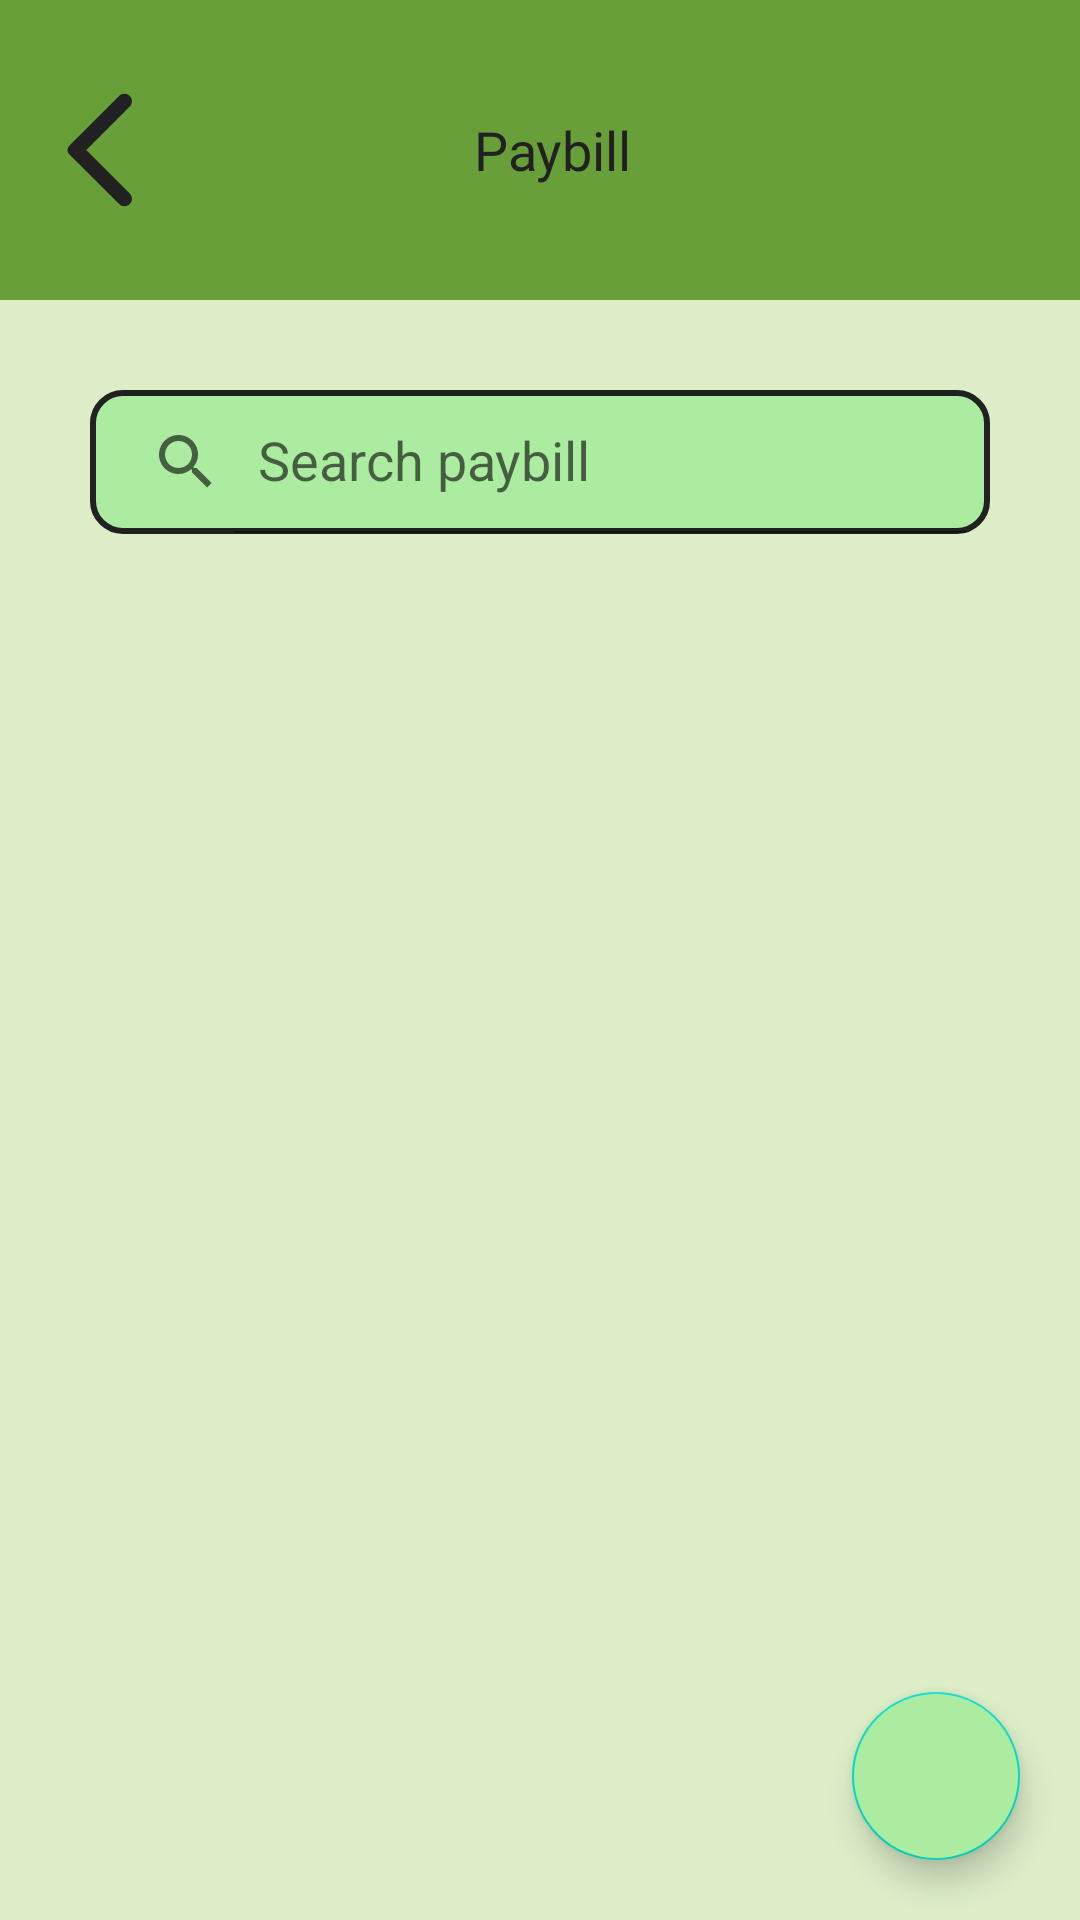

Point at icon controls on the screen. Image size 1080*1920, points as (x=x, y=y).
Back: (x=99, y=150)
